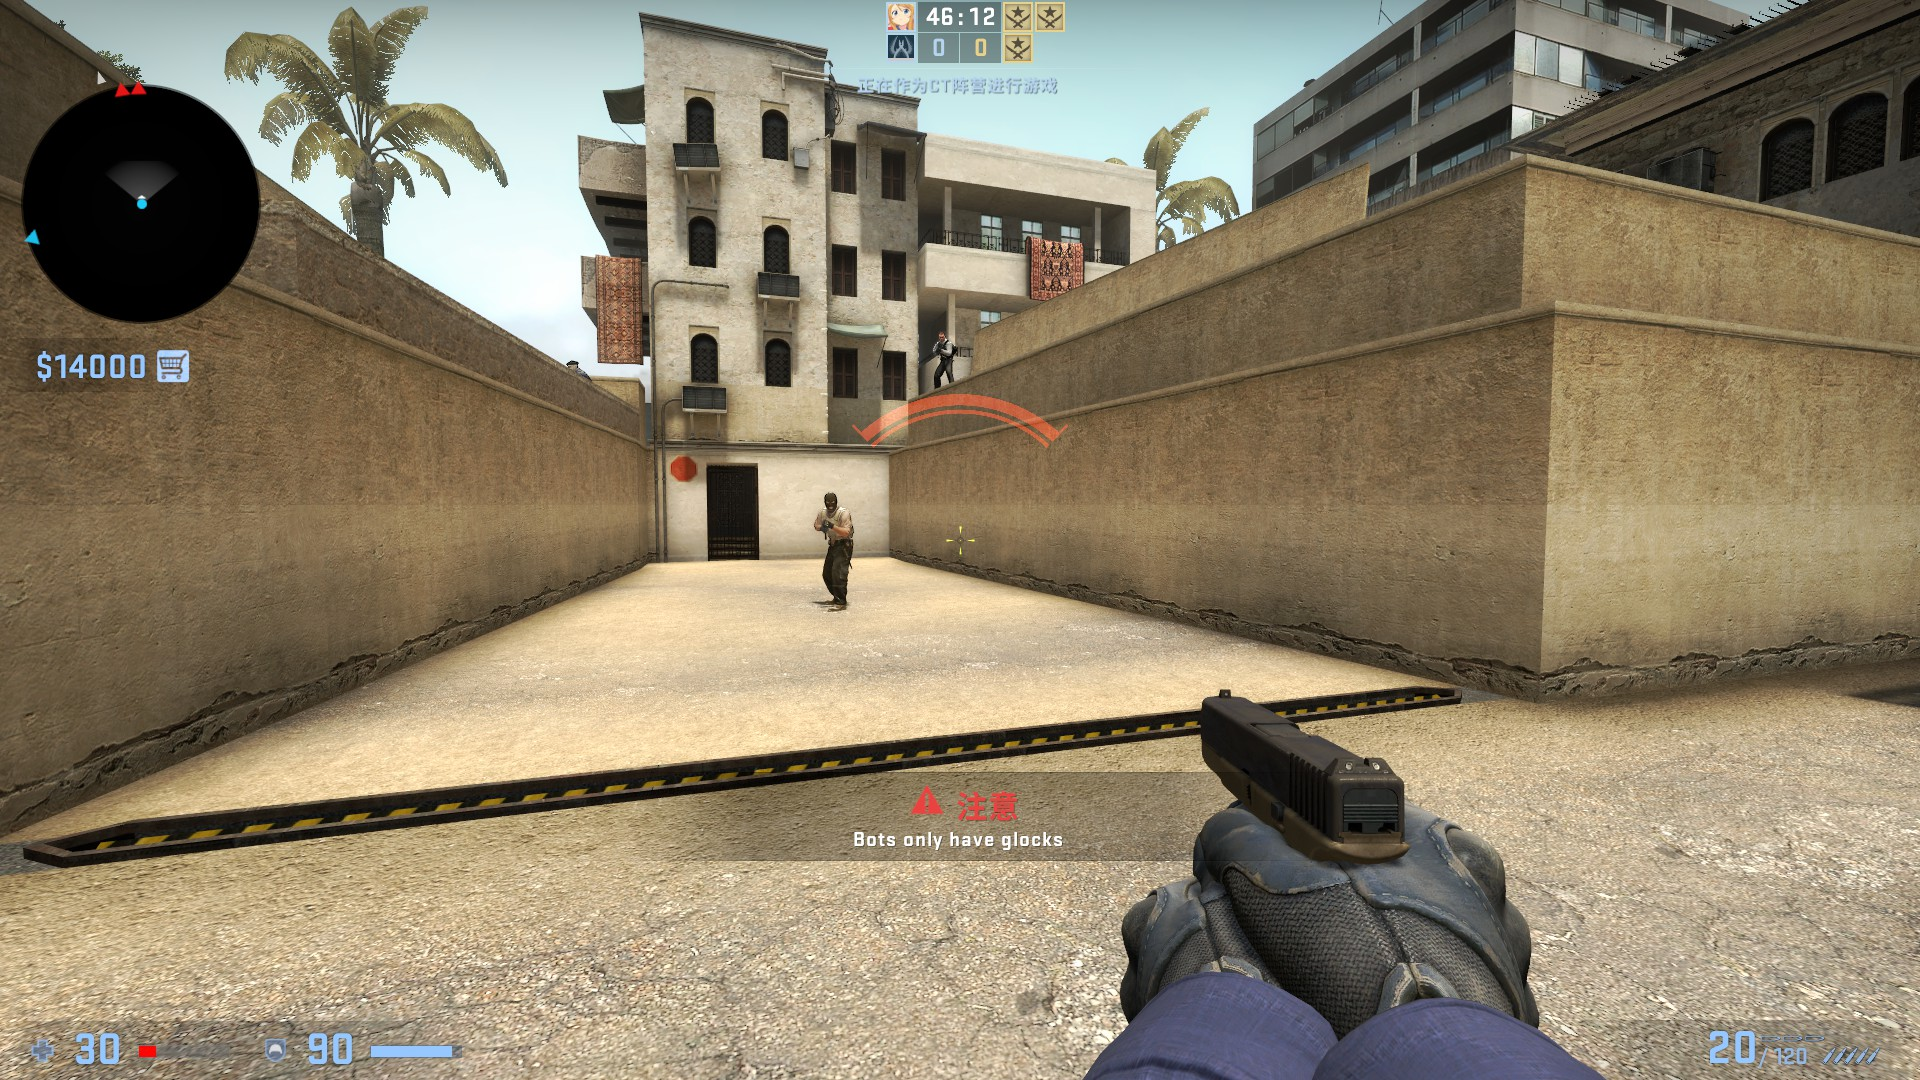head: (821, 490, 838, 509), (937, 332, 944, 342)
